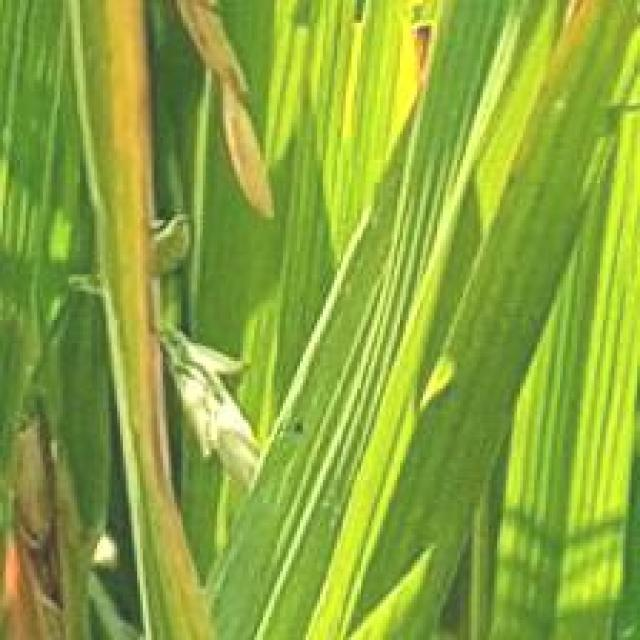Rice_Bacterial_Blight: (92, 8, 212, 606)
